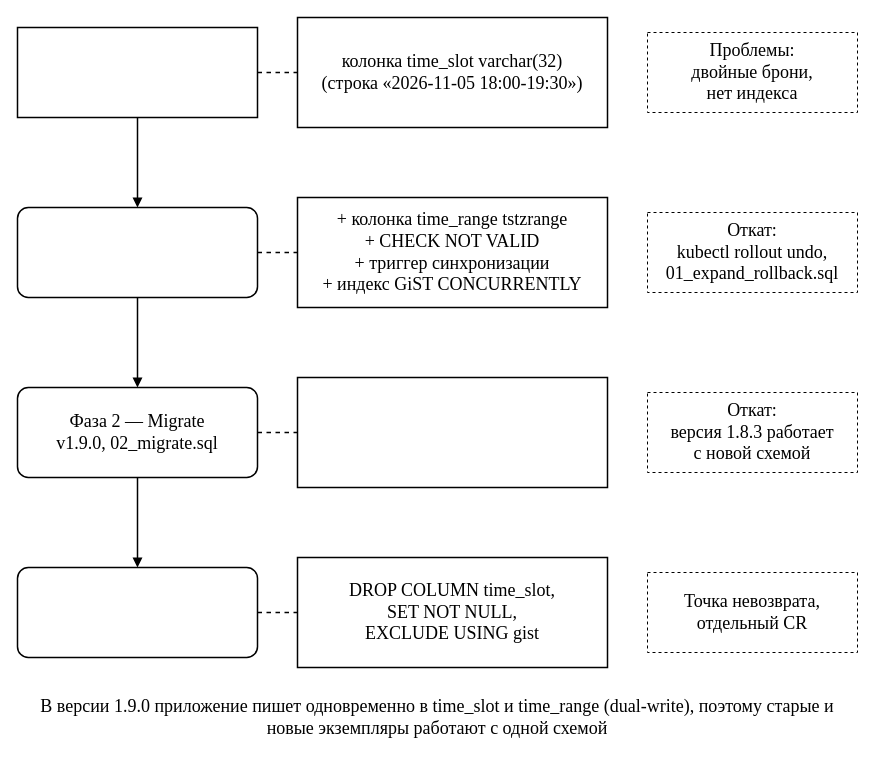
The diagram is 876 pixels wide and 765 high, and some of its shapes have lost their labels. The centre of each missing label's shape, as x and y in pixels:
Исходное состояние v1.8.3: point 137,72
перенос пакетами по 5000 строк, журнал ошибок, VALIDATE CONSTRAINT: point 452,432
Фаза 1 — Expand v1.9.0, 01_expand.sql: point 137,252
Фаза 3 — Contract v1.10.0, 03_contract.sql: point 137,612
